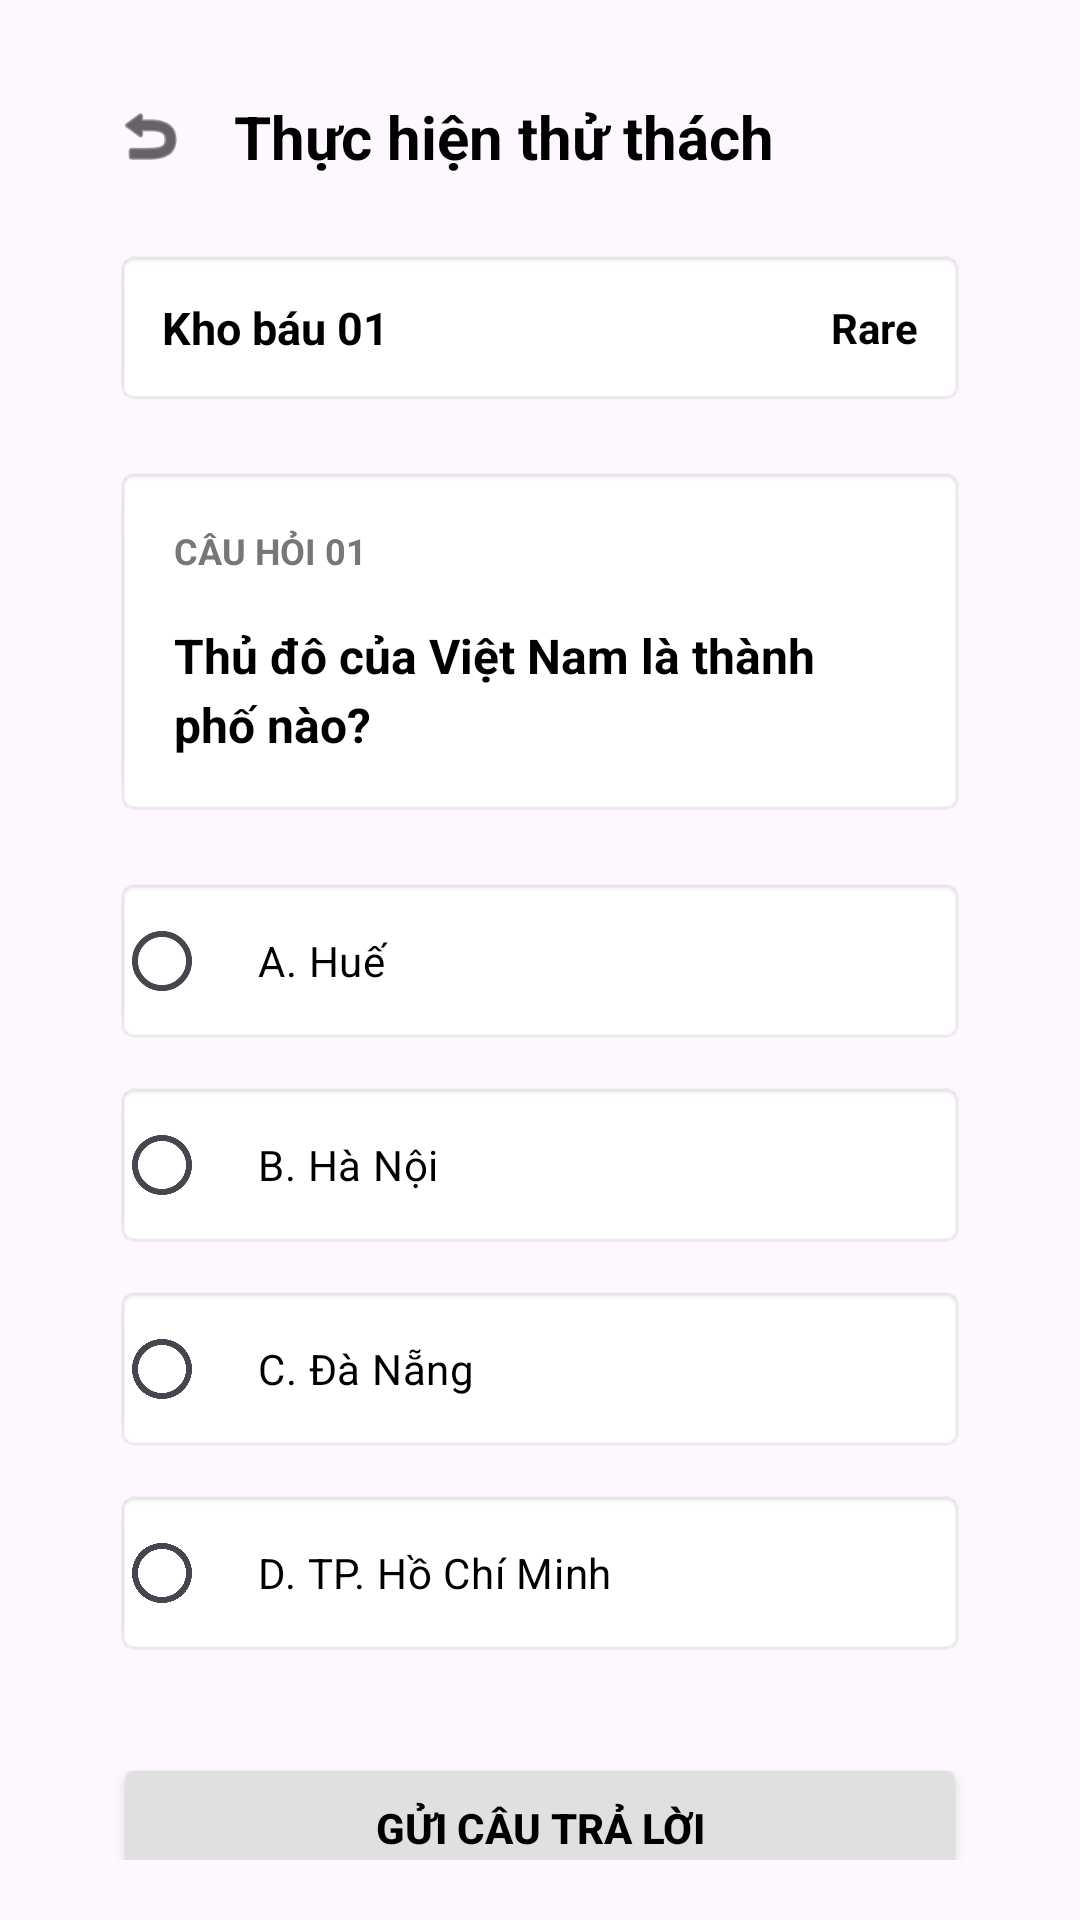

Locate icon controls on the screen. Image size 1080×1920, boxes as [x1, y1, x2, y2].
Quay lại: [125, 113, 177, 160]
